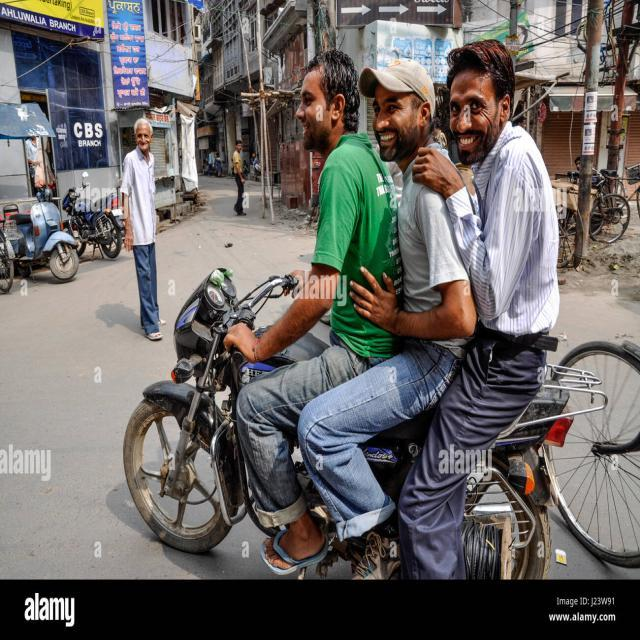No helmet: (289, 39, 365, 153)
Triple riding: (277, 35, 565, 433)
